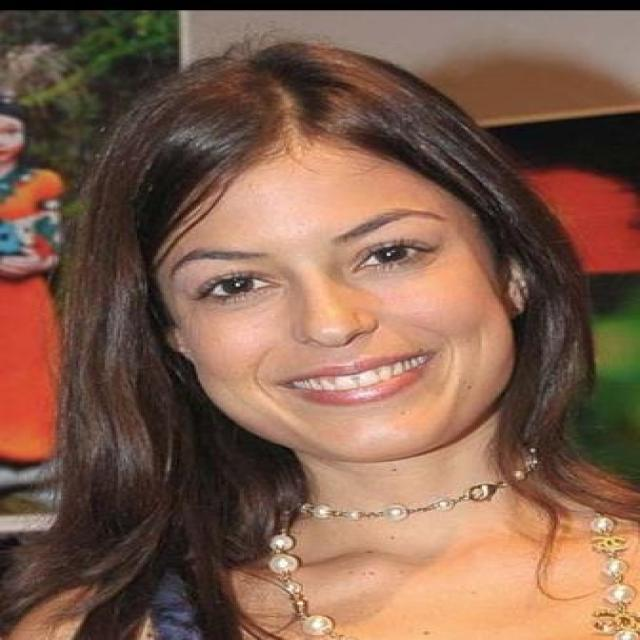0_rostro_limpio: (127, 116, 526, 468)
